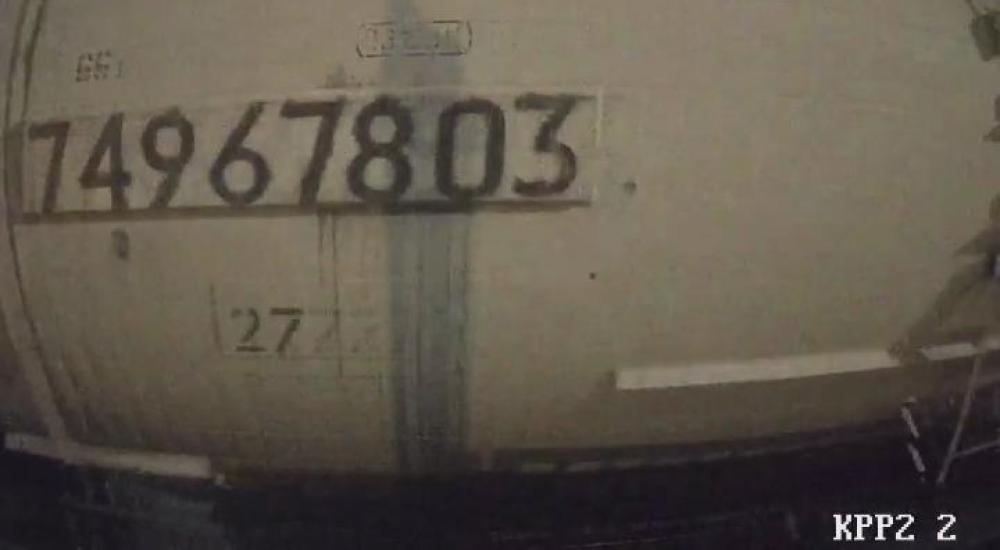Wagon-number: (20, 87, 586, 216)
